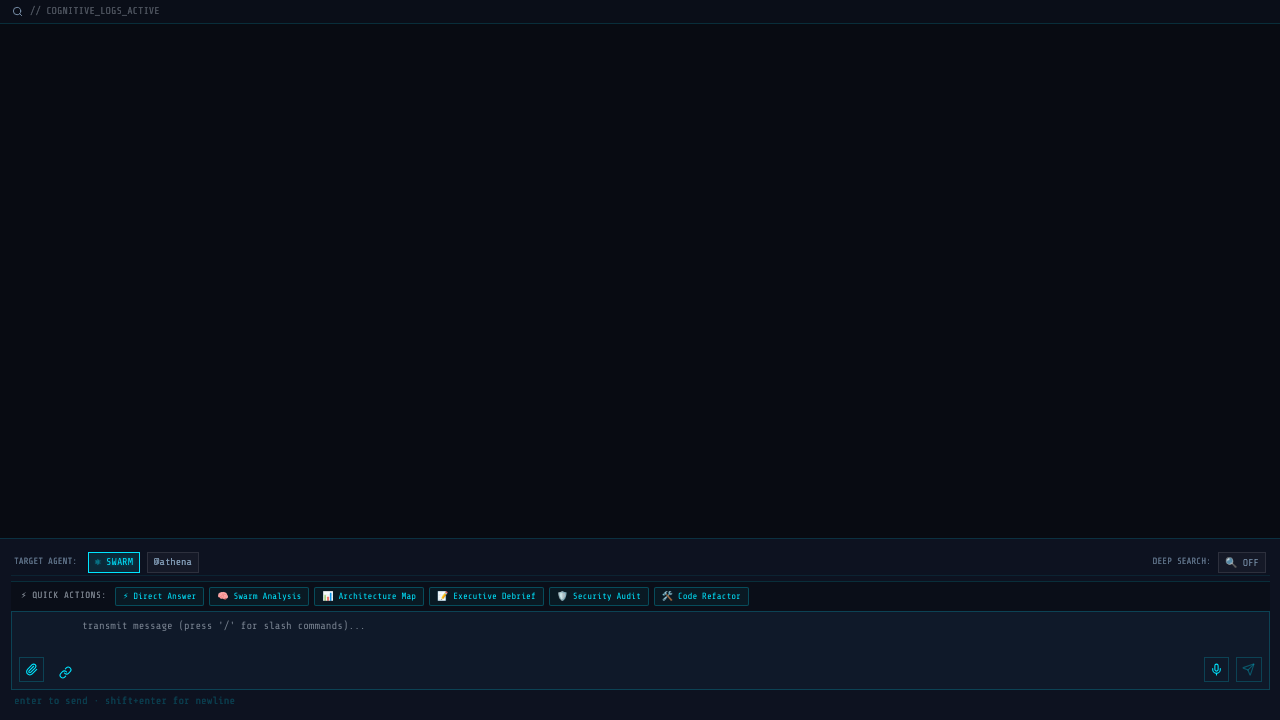
Test: ChatArea Component › transcribes microphone speech into the message draft
Type "Existing draft" into the text box with placeholder "transmit message (press '/' for slash commands)...".
click(639, 651); type("Existing draft")  # box [82, 619, 1196, 682]
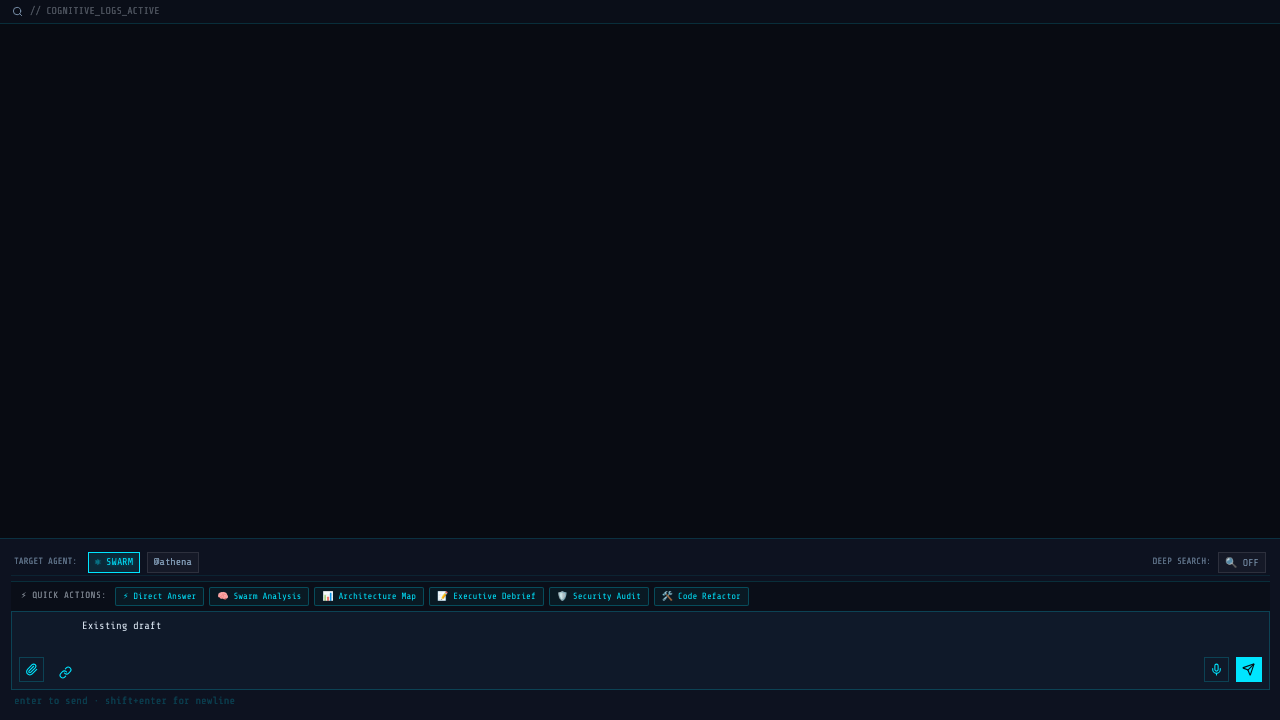
Click the button named "Start voice input".
click(1216, 670)  # box [1204, 657, 1229, 682]
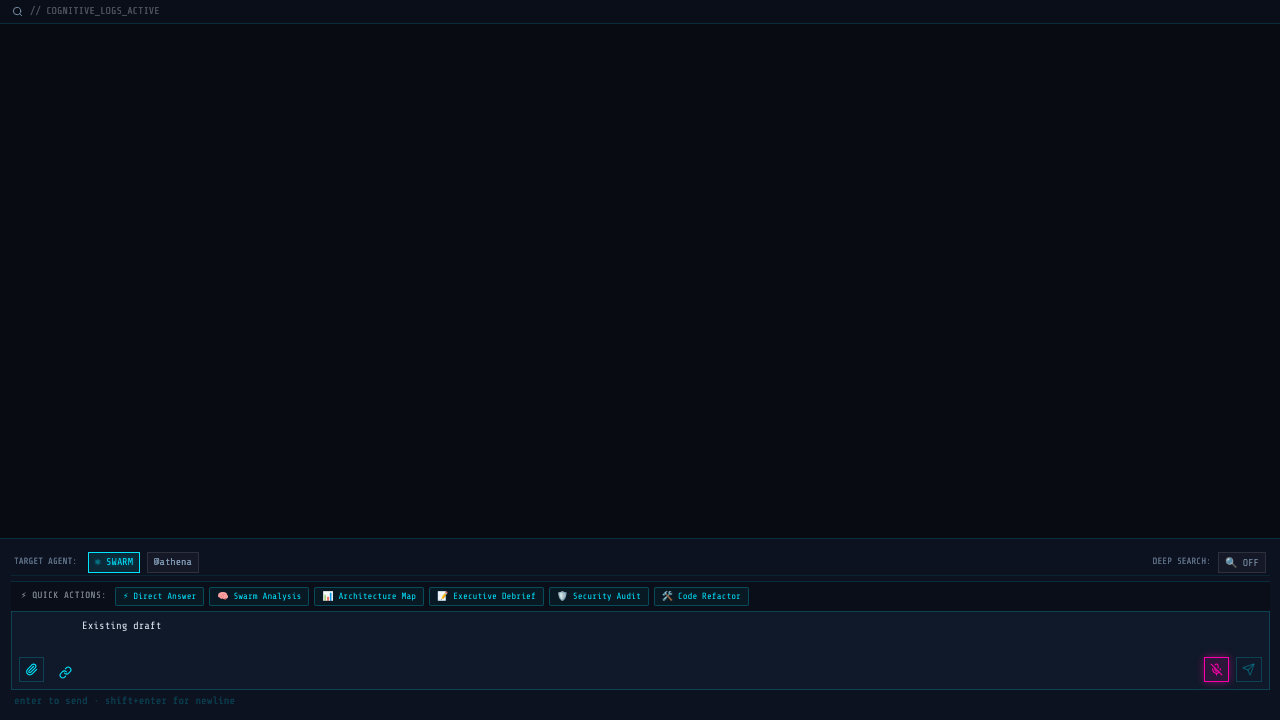
Click the button named "Stop voice input".
click(1216, 670)  # box [1204, 657, 1229, 682]
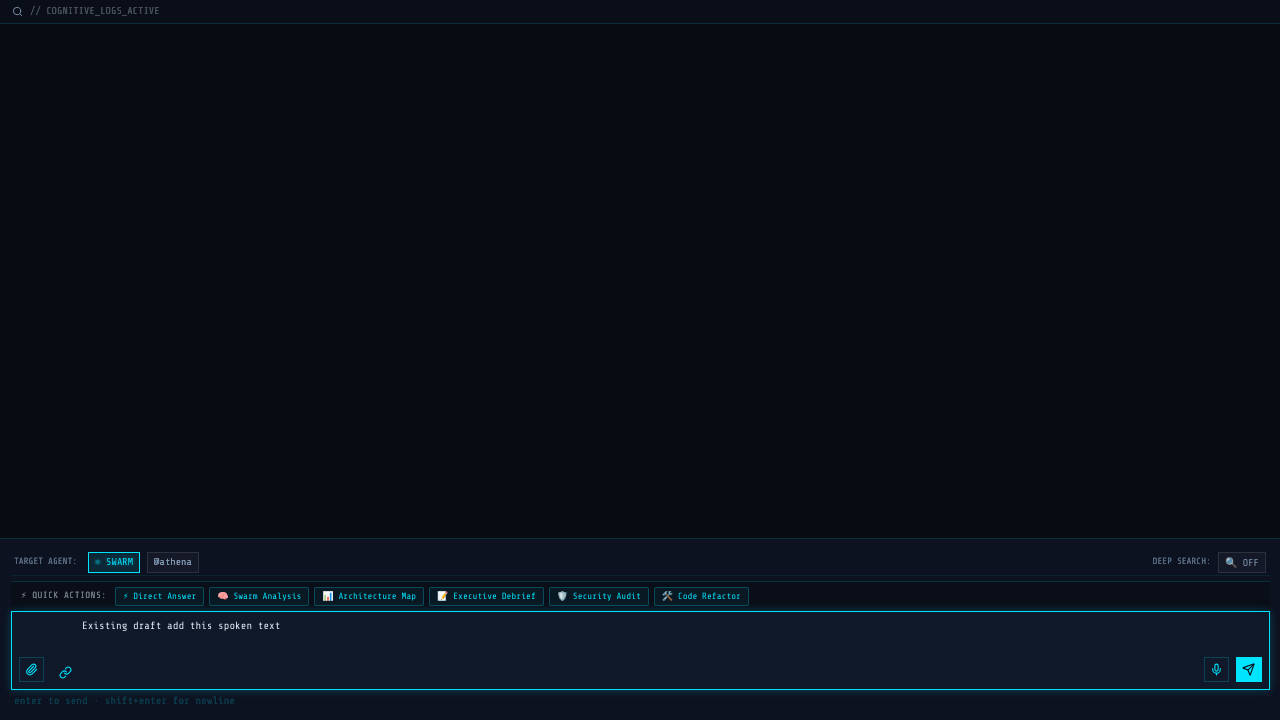
Expected: the text box with placeholder "transmit message (press '/' for slash commands)..." holds "Existing draft add this spoken text", [82, 619, 1196, 682]
